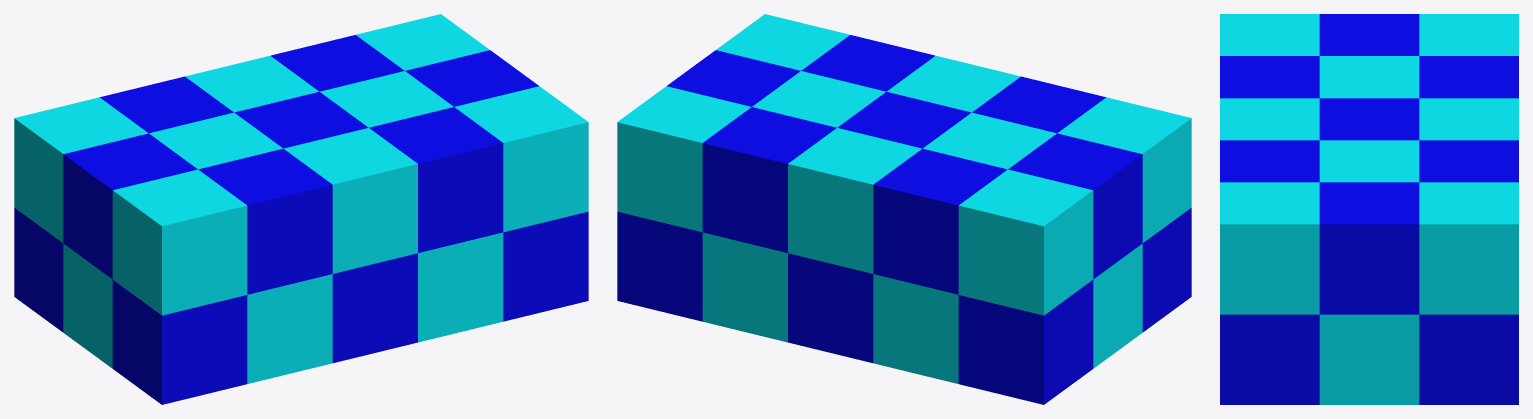
File: ejemplo-1.glb
The picture shows the model from 3 angles, left to right: view 1: azimuth 30°, elevation 25°; view 2: azimuth 150°, elevation 25°; view 3: azimuth 270°, elevation 25°; orthographic projection.
Visible parts, largest first — view 1: Box030, Box015, Box026, Box027, Box028, Box029, Box020, Box025, Box012, Box014, Box011, Box013 (+10 smaller); view 2: Box025, Box010, Box021, Box022, Box023, Box024, Box020, Box030, Box007, Box009, Box006, Box008 (+10 smaller); view 3: Box018, Box023, Box028, Box003, Box008, Box013, Box016, Box017, Box019, Box021, Box022, Box024 (+6 smaller).
Part boxes in pixels (x1,y1,x2,y2): Box030: (112, 169, 247, 315); Box015: (112, 280, 247, 404); Box026: (284, 128, 417, 273); Box027: (369, 107, 503, 252); Box028: (454, 86, 588, 232); Box029: (198, 148, 332, 294); Box020: (63, 133, 197, 279); Box025: (14, 97, 148, 242); Box012: (418, 232, 503, 342); Box014: (247, 274, 332, 383); Box011: (332, 253, 417, 362); Box013: (503, 211, 588, 321); Box025: (958, 169, 1093, 315); Box010: (958, 280, 1093, 404); Box021: (788, 128, 921, 273); Box022: (702, 107, 836, 252); Box023: (617, 86, 751, 232); Box024: (873, 148, 1007, 294); Box020: (1008, 133, 1142, 279); Box030: (1057, 97, 1191, 242); Box007: (702, 232, 787, 342); Box009: (873, 274, 958, 383); Box006: (788, 253, 873, 362); Box008: (617, 211, 702, 321); Box018: (1319, 182, 1419, 314); Box023: (1419, 182, 1518, 314); Box028: (1220, 182, 1319, 314); Box003: (1319, 314, 1419, 404); Box008: (1419, 314, 1518, 404); Box013: (1220, 314, 1319, 404); Box016: (1319, 98, 1419, 140); Box017: (1319, 140, 1419, 182); Box019: (1319, 56, 1419, 98); Box021: (1419, 98, 1518, 140); Box022: (1419, 140, 1518, 182); Box024: (1419, 56, 1518, 98).
Bounding box in the file's own units: 0.254 × 0.1016 × 0.1524.
